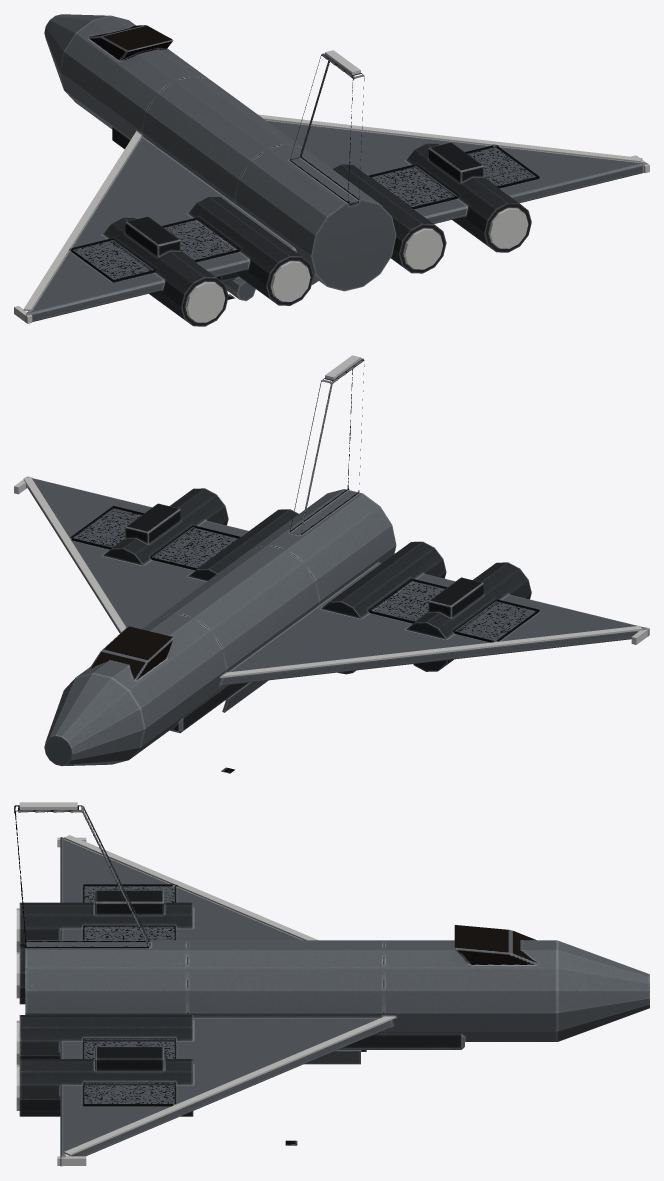
Rendered from chs_behemoth.fbx.
3 views of the same model, one above another, from view 1: azimuth 30°, elevation 25°; view 2: azimuth 150°, elevation 25°; view 3: azimuth 270°, elevation 25° (orthographic). The views are drawn at different scales.
Visible parts, largest first — view 1: base_bar, base_glow_running_bar, pylon_bar; view 2: base_bar, base_glow_running_bar; view 3: base_bar, base_glow_running_bar, bay_bar.
Boxes of the visible parts, left/top/right/bottom form: base_bar: left=25, top=14, right=648, bottom=326; base_glow_running_bar: left=14, top=50, right=649, bottom=323; pylon_bar: left=216, top=273, right=318, bottom=300; base_bar: left=26, top=358, right=648, bottom=766; base_glow_running_bar: left=14, top=355, right=649, bottom=677; base_bar: left=14, top=805, right=649, bottom=1166; base_glow_running_bar: left=16, top=802, right=396, bottom=1165; bay_bar: left=304, top=1050, right=366, bottom=1064.
Size of the model in its own units: 1316 by 646 by 1100.
2 materials, 2 textured.
